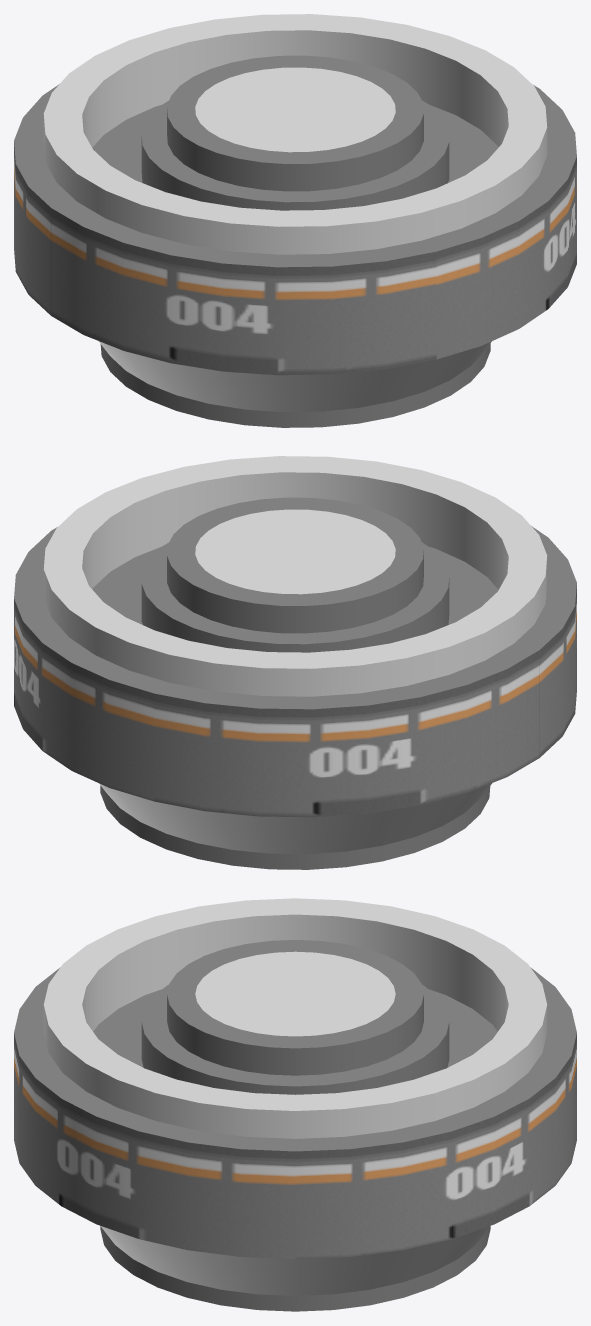
File: PowerUpNode_Movable.fbx
The picture shows the model from 3 angles, top to bottom: view 1: azimuth 30°, elevation 25°; view 2: azimuth 150°, elevation 25°; view 3: azimuth 270°, elevation 25°; orthographic projection.
Parts seen in each view (by area): view 1: Cylinder.003; view 2: Cylinder.003; view 3: Cylinder.003.
Boxes of the visible parts, bbox=[...] form: Cylinder.003: bbox=[14, 14, 576, 427]; Cylinder.003: bbox=[14, 456, 576, 869]; Cylinder.003: bbox=[14, 898, 576, 1311].
Bounding box in the file's own units: 388 × 388 × 189.
